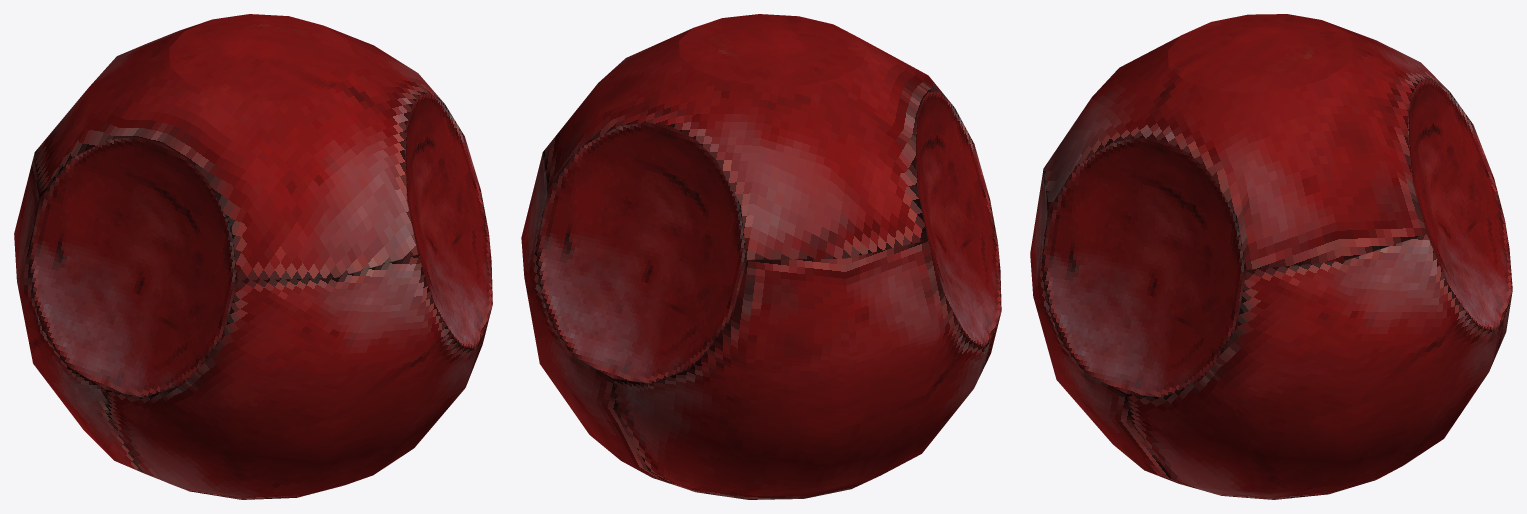
File: Quaffle Model.fbx
3 renders of one model, left to right at view 1: azimuth 30°, elevation 25°; view 2: azimuth 150°, elevation 25°; view 3: azimuth 270°, elevation 25°, orthographic.
Visible parts, largest first — view 1: DrawCall_0096, DrawCall_0094, DrawCall_0095; view 2: DrawCall_0096, DrawCall_0094, DrawCall_0095; view 3: DrawCall_0096, DrawCall_0094, DrawCall_0095.
Boxes of the visible parts, bbox=[...] form: DrawCall_0096: bbox=[14, 20, 491, 499]; DrawCall_0094: bbox=[28, 92, 492, 397]; DrawCall_0095: bbox=[169, 14, 356, 101]; DrawCall_0096: bbox=[521, 28, 1001, 499]; DrawCall_0094: bbox=[536, 91, 1001, 383]; DrawCall_0095: bbox=[679, 14, 866, 86]; DrawCall_0096: bbox=[1030, 20, 1512, 499]; DrawCall_0094: bbox=[1042, 79, 1512, 397]; DrawCall_0095: bbox=[1167, 14, 1354, 92].
Size of the model in its own units: 0.289 by 0.2707 by 0.2863.
3 materials, 3 textured.
